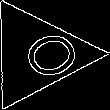O_SW: (0, 23, 75, 86)
